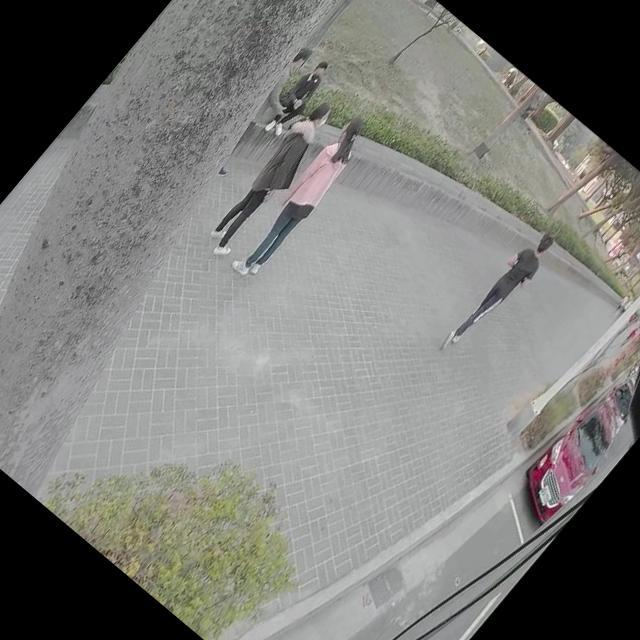person: (198, 94, 344, 258), (231, 116, 375, 280), (436, 219, 558, 357), (206, 43, 322, 175), (260, 56, 336, 140)
